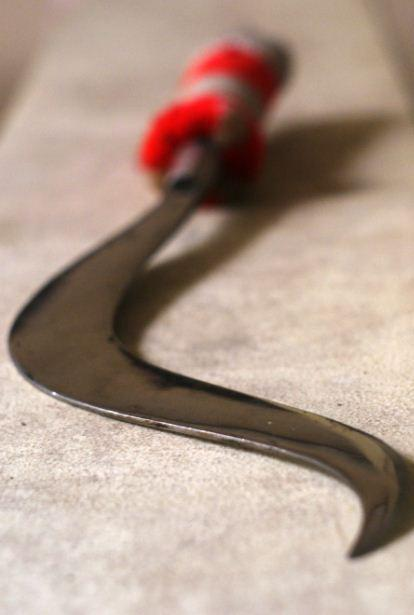foice: (12, 74, 414, 554)
